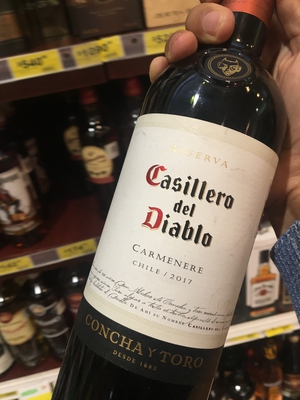casillero del diablo carmenere: (85, 8, 295, 400)
